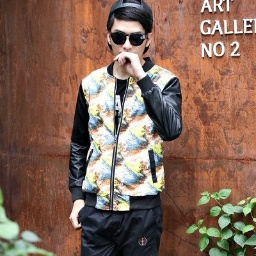face: (105, 1, 155, 66)
